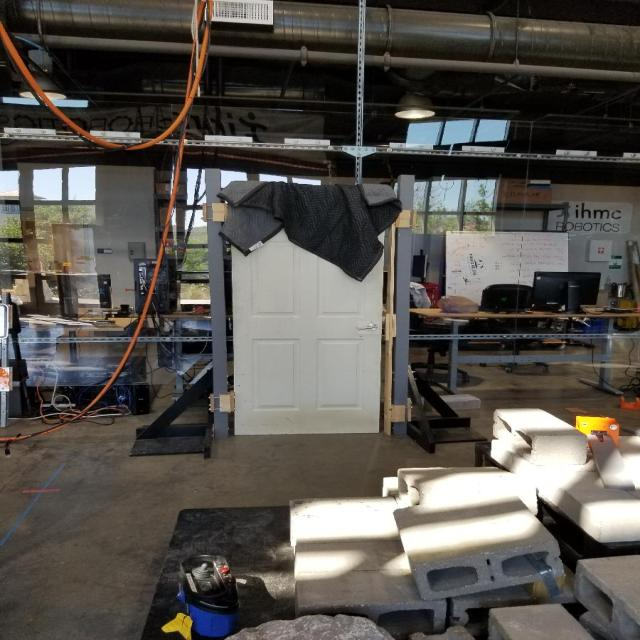doorhandle: (358, 321, 379, 334)
